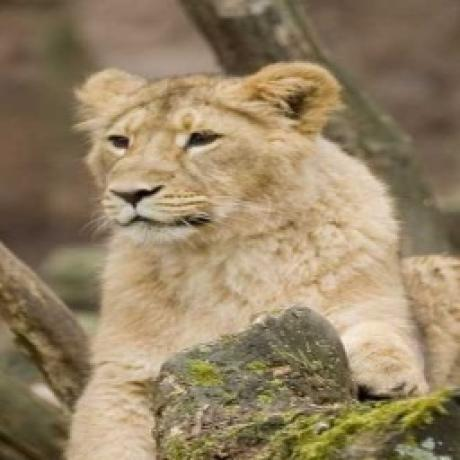Lion: (62, 58, 459, 460)
